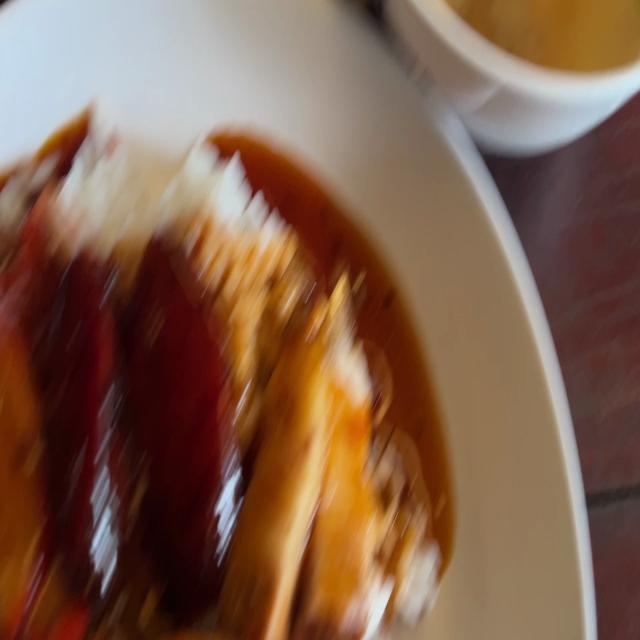stir_fried_basil: (61, 245, 217, 558), (136, 242, 247, 566), (54, 248, 118, 573)
